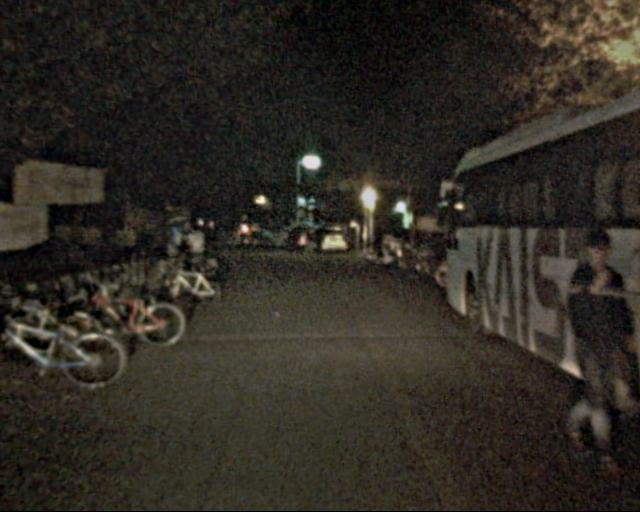person: (541, 232, 640, 477), (180, 220, 209, 288)
